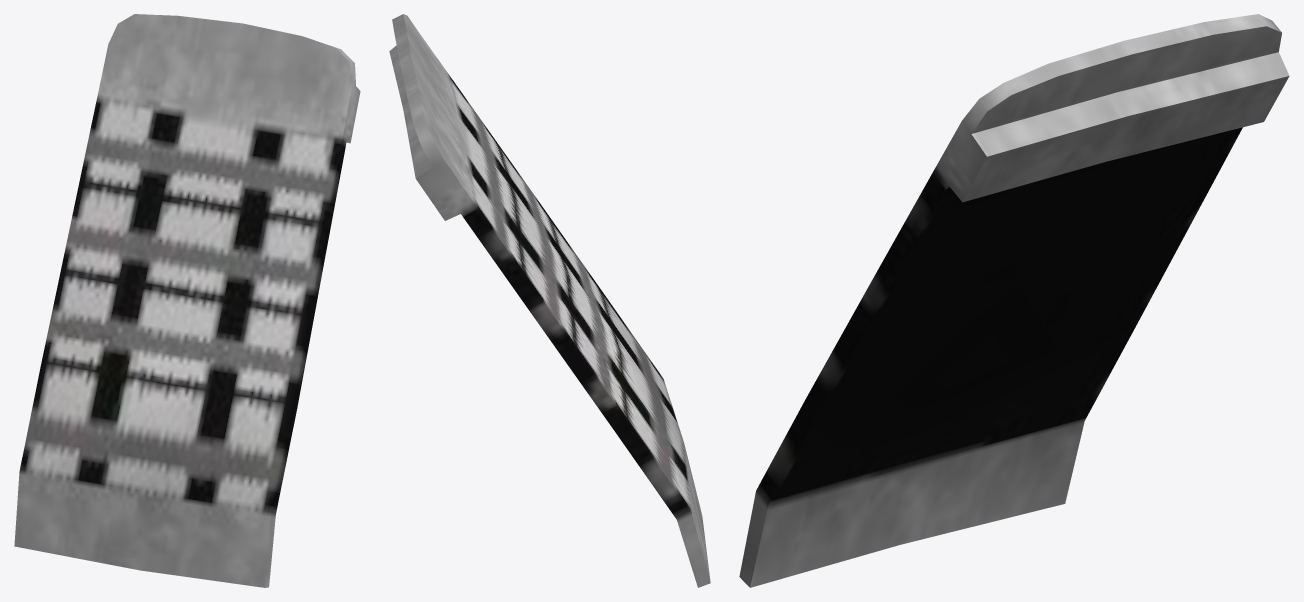
Rendered from rider-shoulderarmor-slice-championstablesoldiers.glb.
3 views of the same model, side by side, from view 1: azimuth 30°, elevation 25°; view 2: azimuth 150°, elevation 25°; view 3: azimuth 270°, elevation 25° (orthographic). The views are drawn at different scales.
Bounding box in the file's own units: 0.2745 × 0.3654 × 0.2889.
Materials: 1 (1 with a texture image).
